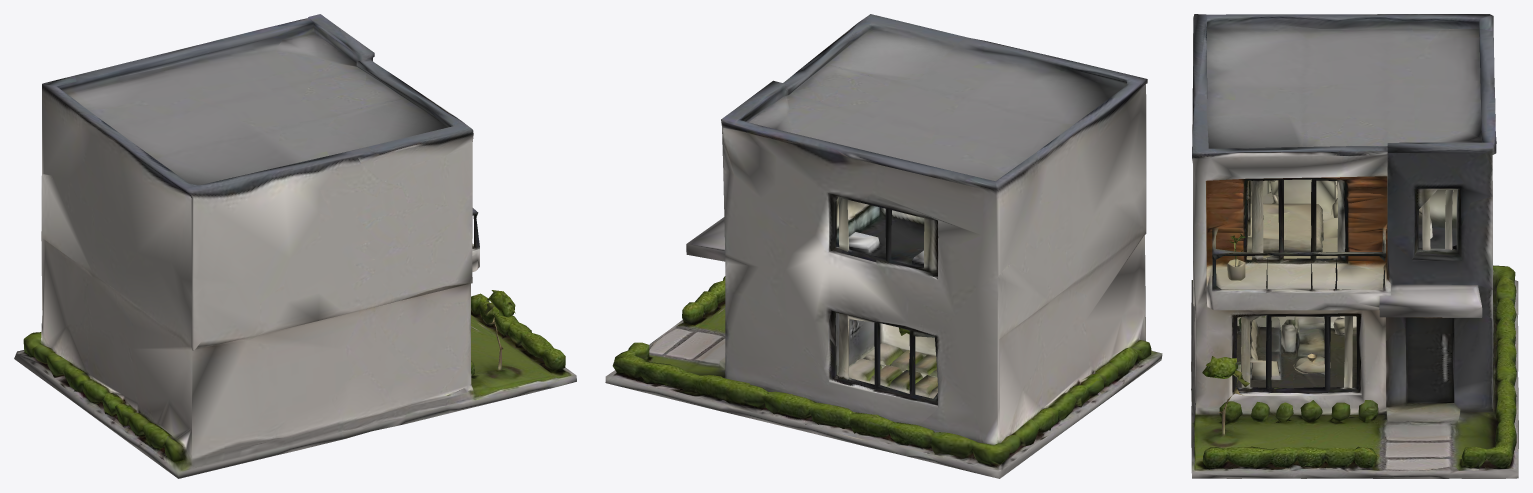
The model's file is casa-sobrado.glb.
3 renders of one model, left to right at view 1: azimuth 30°, elevation 25°; view 2: azimuth 150°, elevation 25°; view 3: azimuth 270°, elevation 25°, orthographic.
Visible parts, largest first — view 1: tripo_node_dee5fcb2-156a-4cbf-a85e-09889b301d4b; view 2: tripo_node_dee5fcb2-156a-4cbf-a85e-09889b301d4b; view 3: tripo_node_dee5fcb2-156a-4cbf-a85e-09889b301d4b.
Boxes of the visible parts, x1,y1,x2,y2 form: tripo_node_dee5fcb2-156a-4cbf-a85e-09889b301d4b: (14,14,576,478); tripo_node_dee5fcb2-156a-4cbf-a85e-09889b301d4b: (605,14,1162,478); tripo_node_dee5fcb2-156a-4cbf-a85e-09889b301d4b: (1191,14,1518,478).
Bounding box in the file's own units: 1.48 × 1 × 1.06.
1 material, 1 textured.
